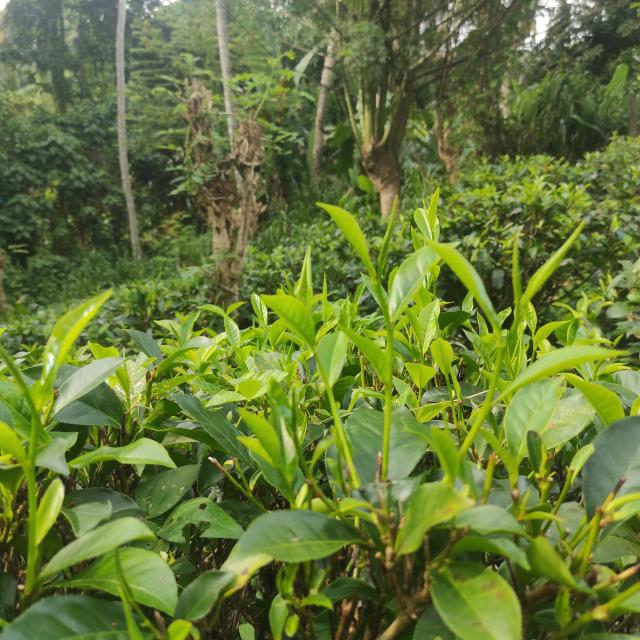unopened_leaf: (0, 340, 44, 421), (369, 189, 404, 279), (505, 226, 531, 318), (320, 271, 330, 330), (167, 321, 186, 346)
